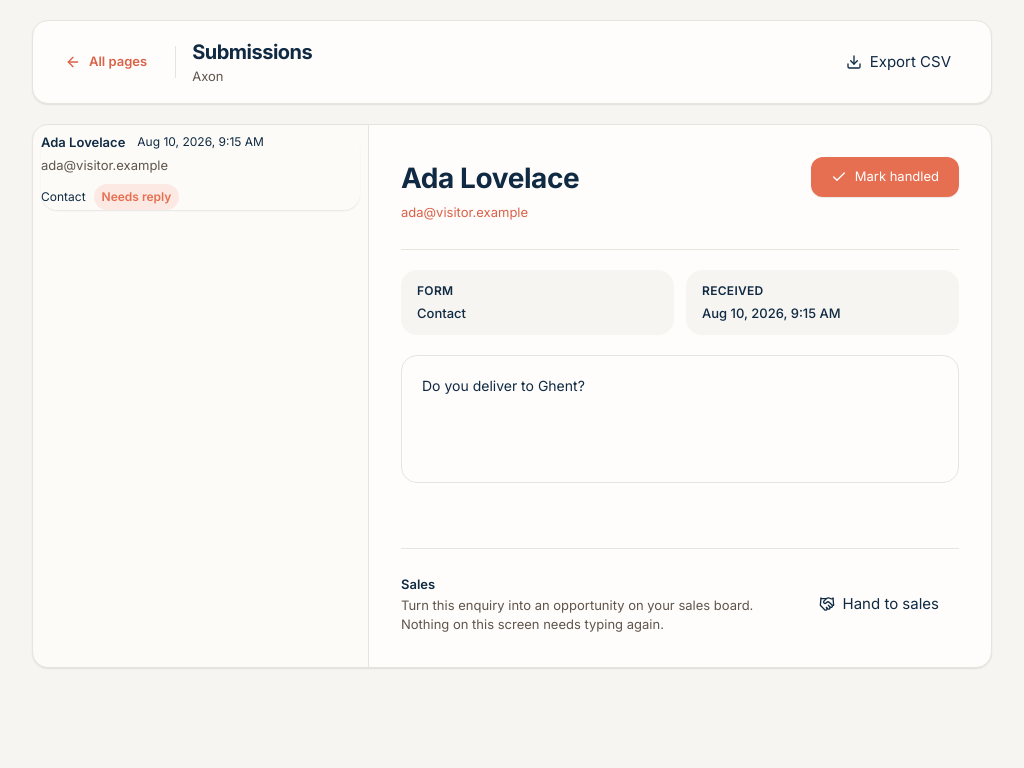
handing an enquiry to sales › CRM refusing the boards is stated inside the dialog, not as an empty list
Click the button "Hand to sales" at (879, 604), box [798, 584, 959, 624]
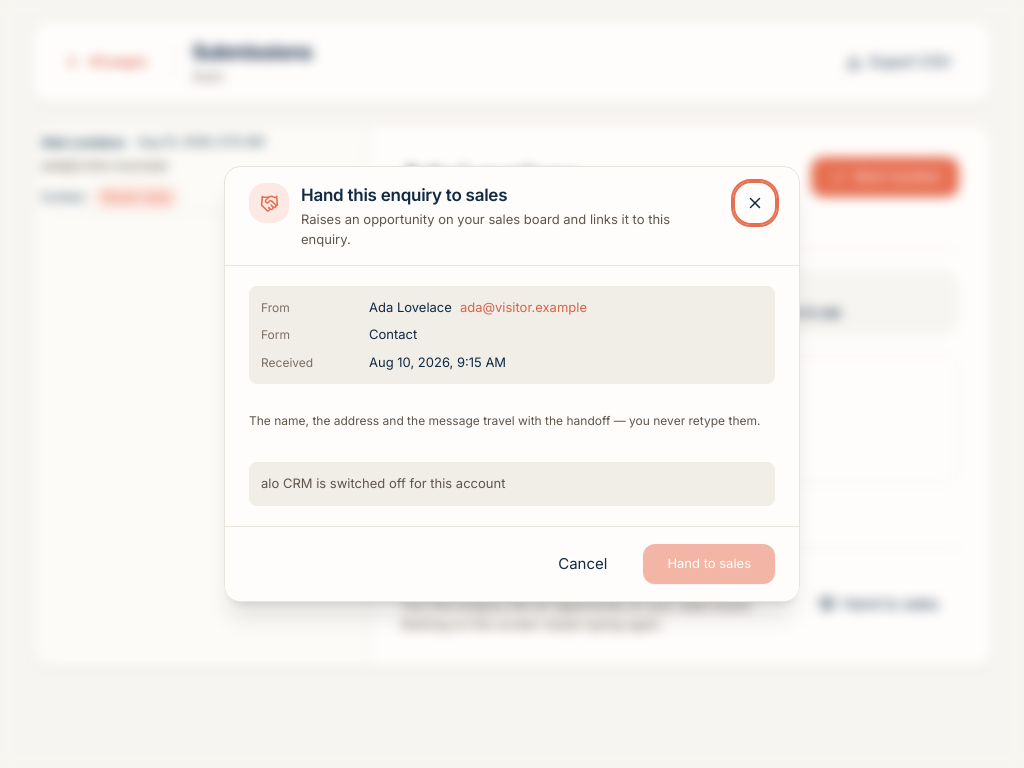
Now the text "alo CRM is switched off for this account" is shown, box [249, 462, 775, 506]
Now the button "Hand to sales" is disabled, box [643, 544, 775, 584]
